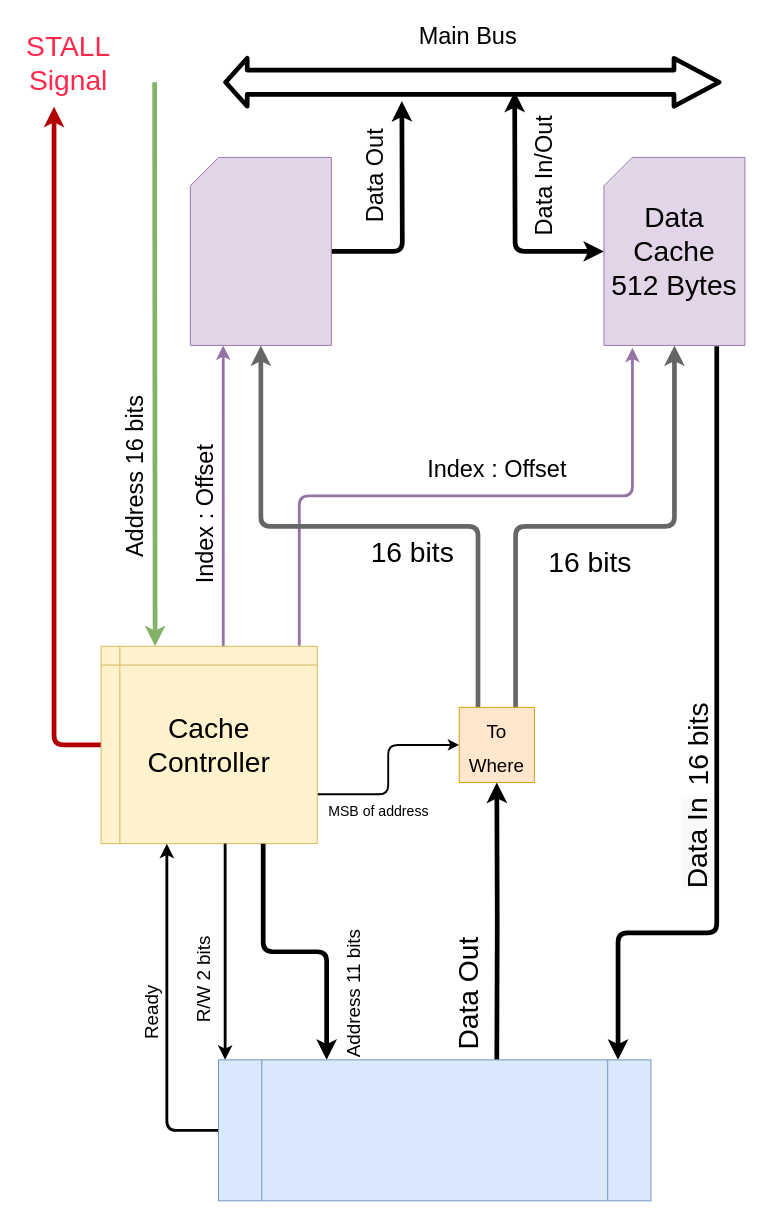
The diagram is 761 pixels wide and 1217 high, and some of its shapes have lost their labels. The box of each missing label's shape, as (x1, y1, x2, y2) in pixels:
Instruction Cache 512 Bytes: (189, 157, 331, 345)
Main Memory: (218, 1059, 651, 1201)
